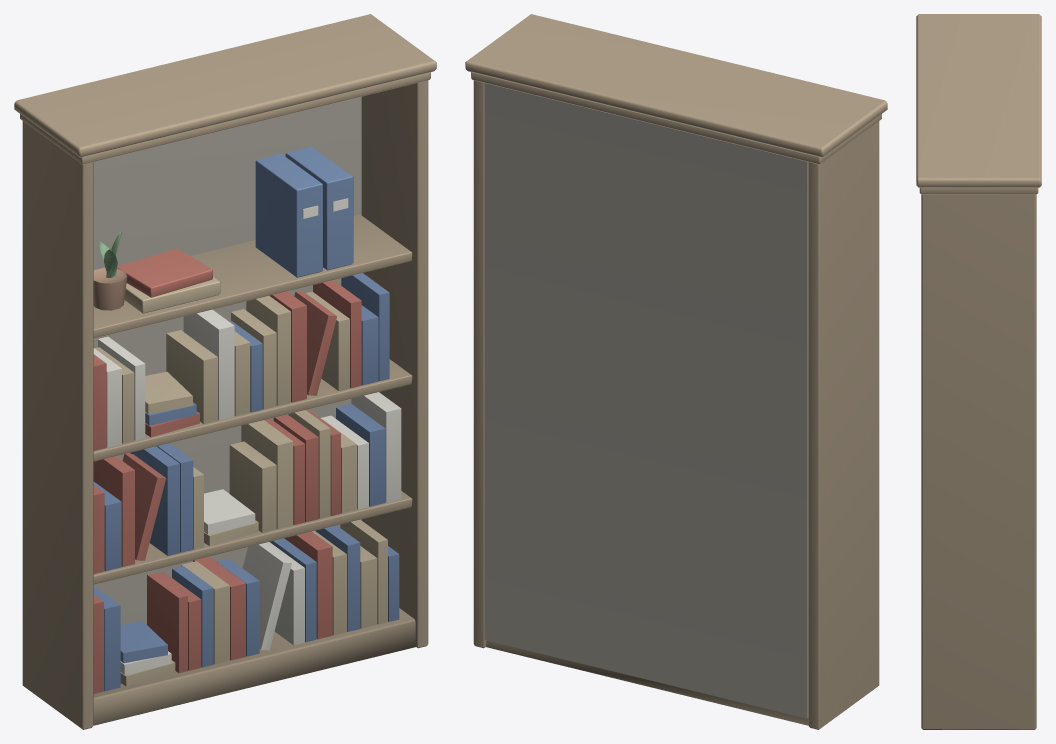
Rendered from bookshelf.glb.
3 renders of one model, left to right at view 1: azimuth 30°, elevation 25°; view 2: azimuth 150°, elevation 25°; view 3: azimuth 270°, elevation 25°, orthographic. The views are drawn at different scales.
Parts seen in each view (by area): view 1: furn_bookshelf; view 2: furn_bookshelf; view 3: furn_bookshelf.
Boxes of the visible parts, x1=… form: furn_bookshelf: x1=14, y1=14, x2=436, y2=729; furn_bookshelf: x1=465, y1=14, x2=887, y2=729; furn_bookshelf: x1=916, y1=14, x2=1041, y2=729.
Size of the model in its own units: 1.19 by 1.86 by 0.38.
